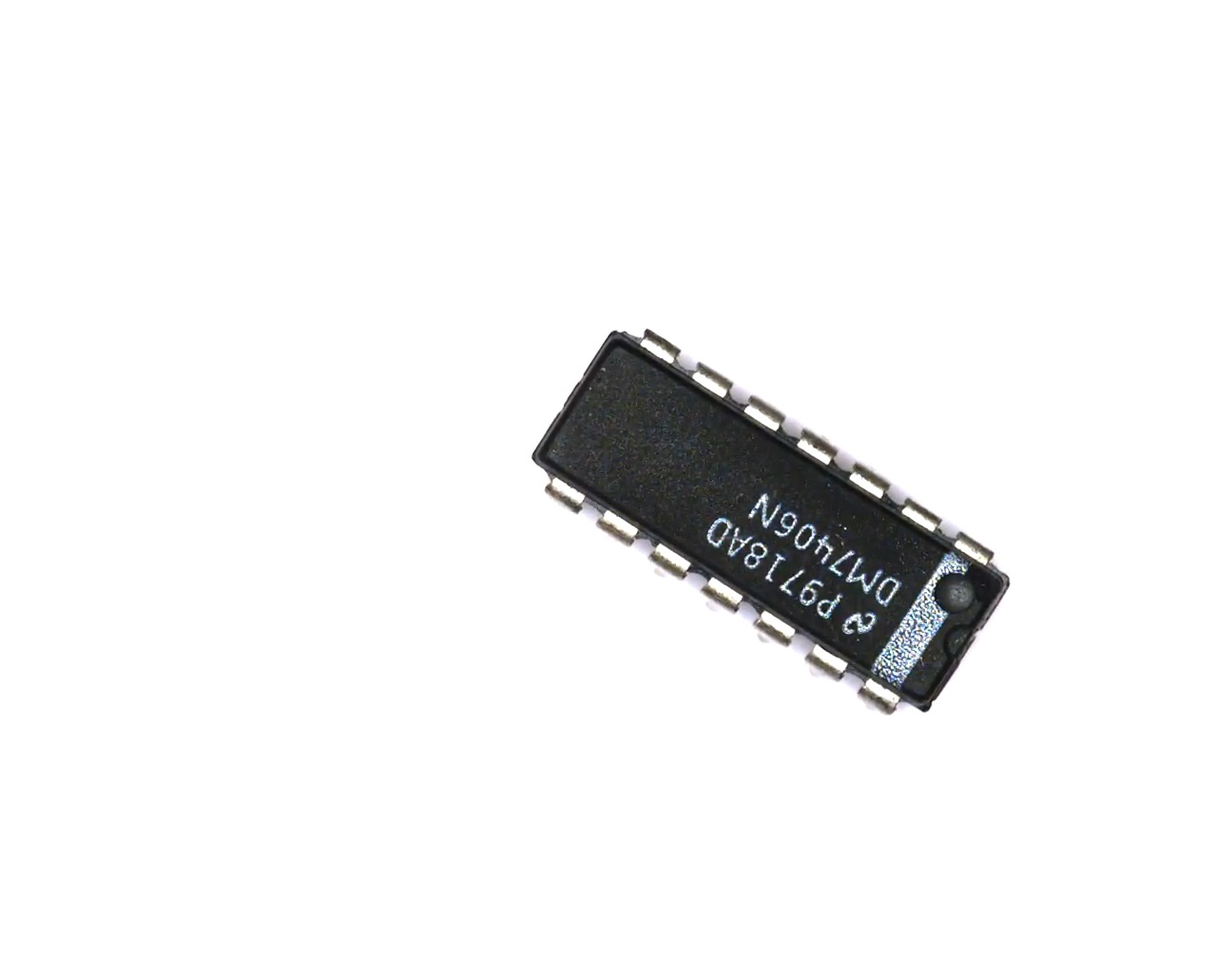IC: (492, 287, 1046, 756)
notch: (940, 618, 979, 669)
